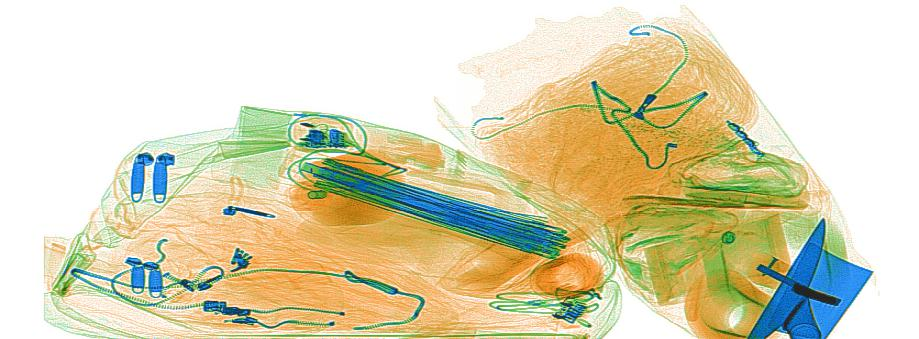plasticBottleWithaNozzle: (284, 146, 409, 229)
